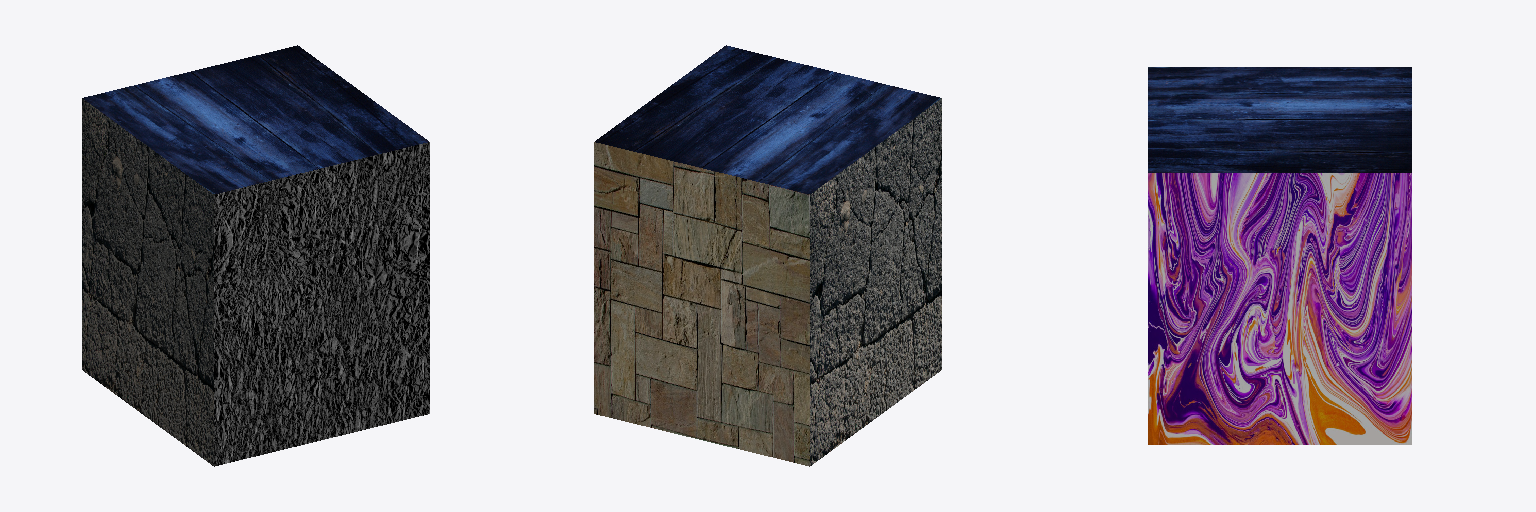
The picture shows the model from 3 angles: view 1: azimuth 30°, elevation 25°; view 2: azimuth 150°, elevation 25°; view 3: azimuth 270°, elevation 25°; orthographic projection.
Visible parts, largest first — view 1: Box001; view 2: Box001; view 3: Box001.
Part boxes in pixels (x1,y1,x2,y2): Box001: (82, 45, 429, 466); Box001: (594, 45, 941, 466); Box001: (1148, 67, 1411, 444).
Bounding box in the file's own units: 36.66 × 44.12 × 38.78.
Materials: 6 (6 with a texture image).